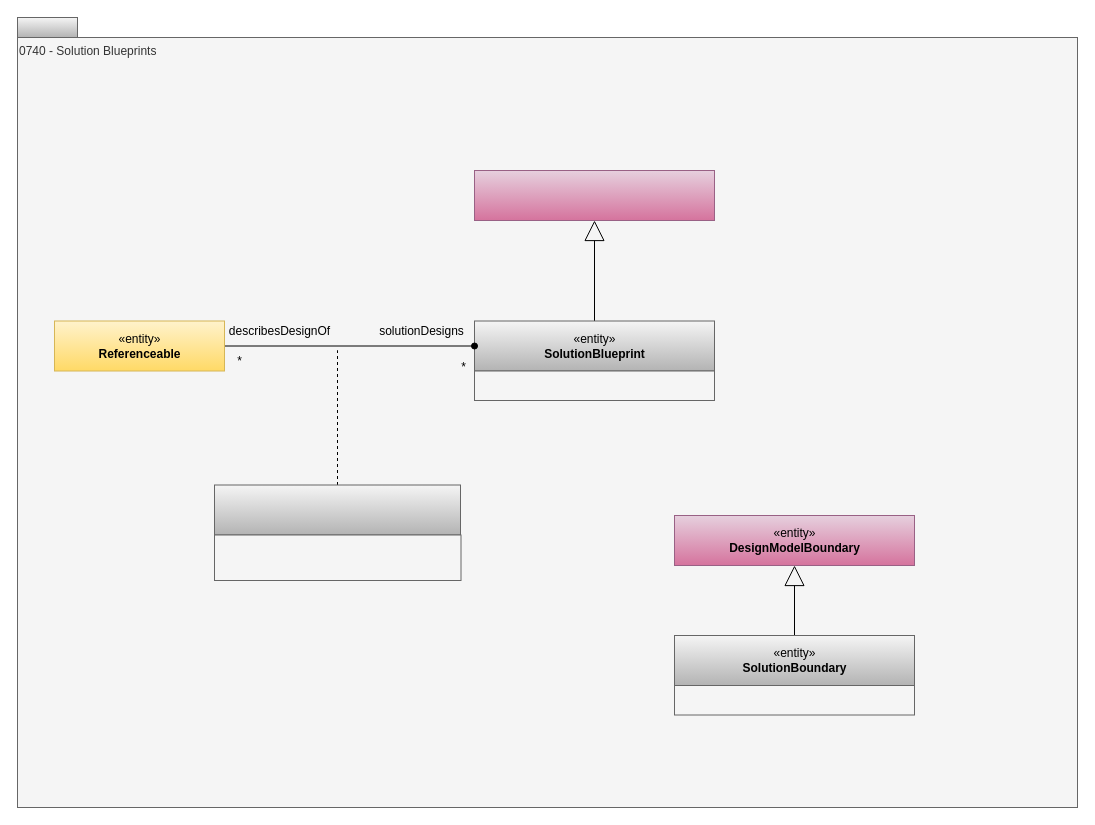
The diagram is 1095 pixels wide and 825 high, and some of its shapes have lost their labels. The centre of each missing label's shape, as x and y in pixels:
"label : string description : string" goes at (x=337, y=557).
"«entity» DesignModel" goes at (x=594, y=195).
"«relationship» SolutionDesign" goes at (x=337, y=509).
